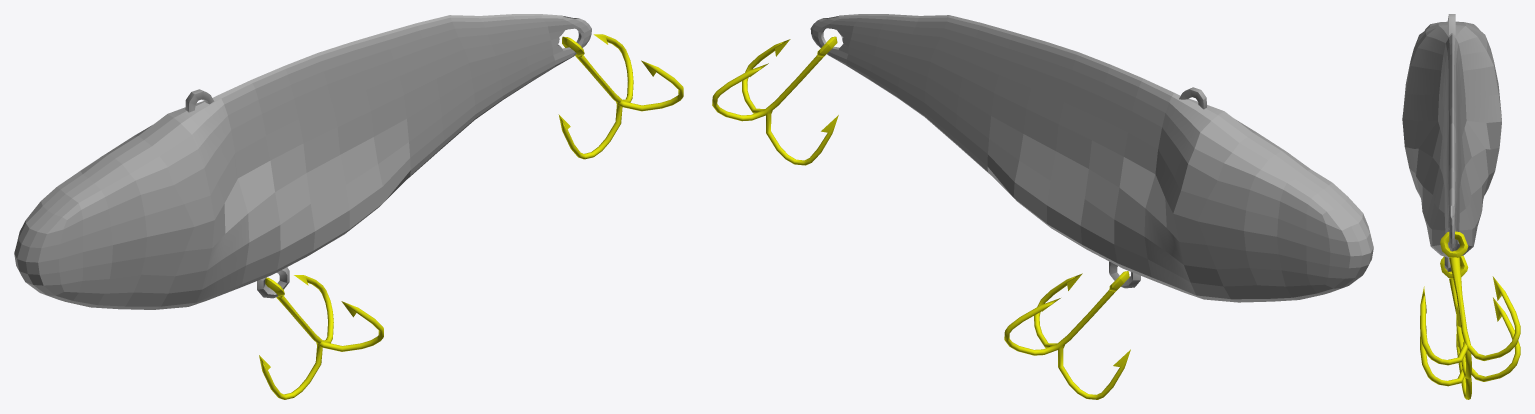
File: DBiveOBJ.fbx
3 views of the same model, side by side, from view 1: azimuth 30°, elevation 25°; view 2: azimuth 150°, elevation 25°; view 3: azimuth 270°, elevation 25° (orthographic). The views are drawn at different scales.
Visible parts, largest first — view 1: polySurface478; view 2: polySurface478; view 3: polySurface478.
Boxes of the visible parts, bbox=[...] form: polySurface478: bbox=[14, 14, 683, 399]; polySurface478: bbox=[712, 14, 1373, 399]; polySurface478: bbox=[1402, 14, 1520, 399].
Bounding box in the file's own units: 1.74 × 0.8919 × 0.2745.
